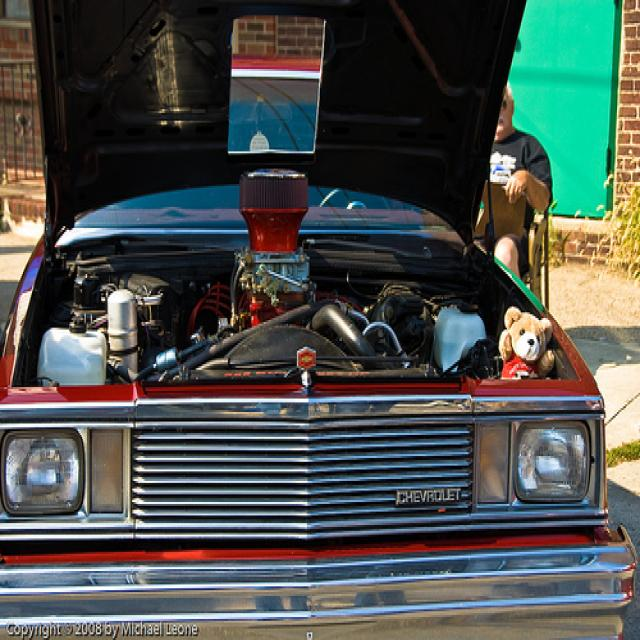Vehicle: (1, 4, 638, 634)
